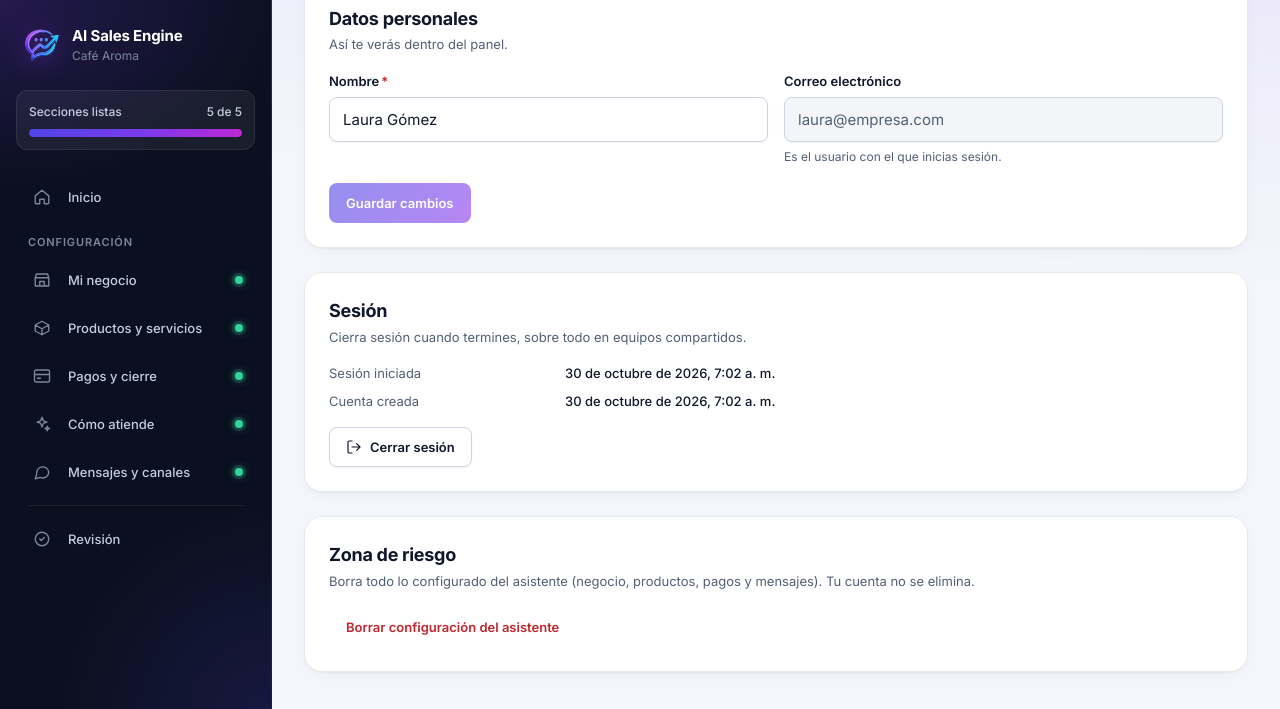
Panel de configuración › borrar la configuración deja la revisión con los pendientes, sin afirmar que está publicada
The width and height of the screenshot is (1280, 709).
(page scrolled)
Click the button "Borrar configuración del asistente" at (453, 627), box [329,607,576,647]
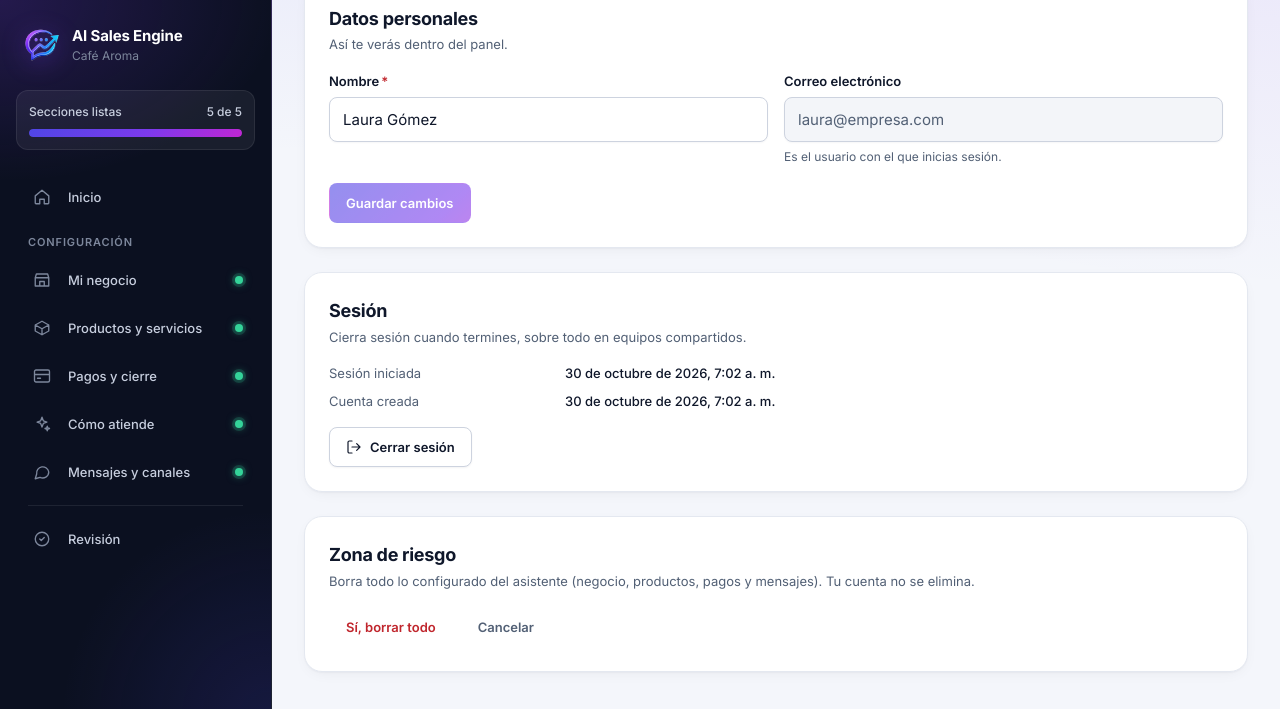
Click the button "Sí, borrar todo" at (391, 627), box [329,607,453,647]
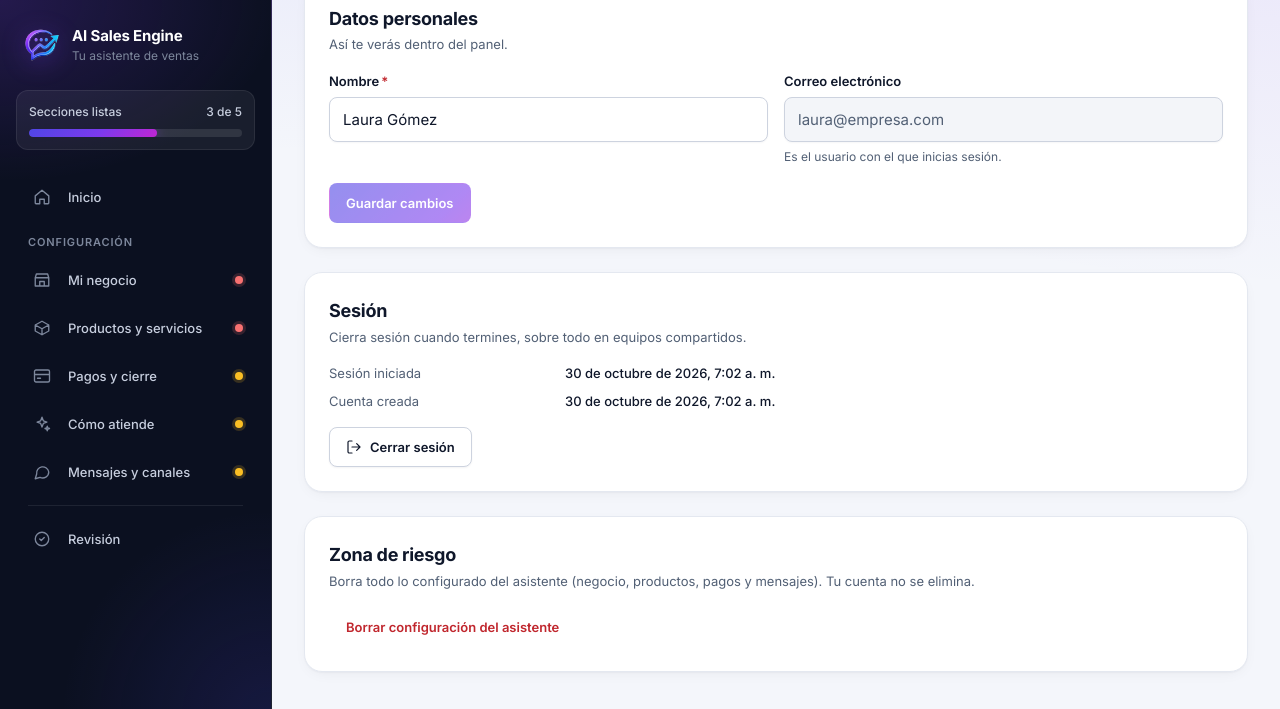
Click the link "Revisión" at (77, 540), box [33,530,120,548]
(page scrolled)
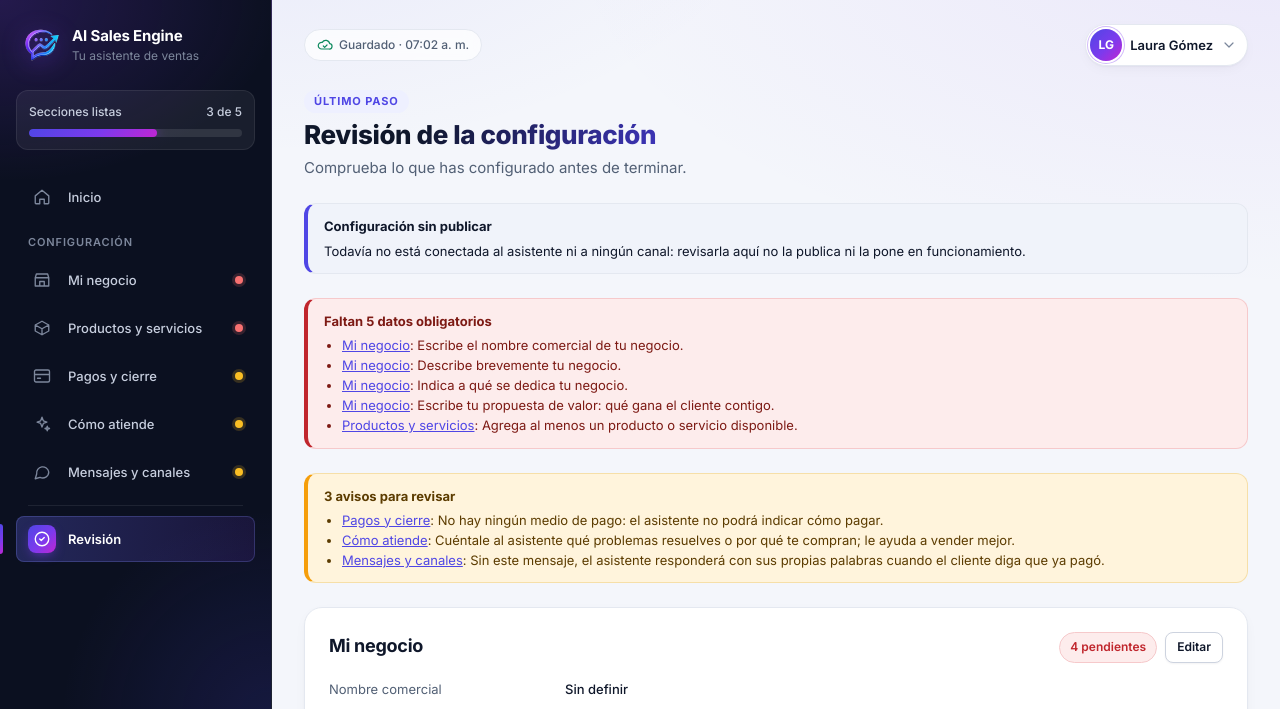
expect the text "Configuración sin publicar" is shown: met, box [324,218,492,234]
expect the text "Faltan 5 datos obligatorios" is shown: met, box [324,313,492,329]
expect the list item "Mi negocio : Escribe el nombre comercial de tu negocio." is shown: met, box [342,337,683,353]
